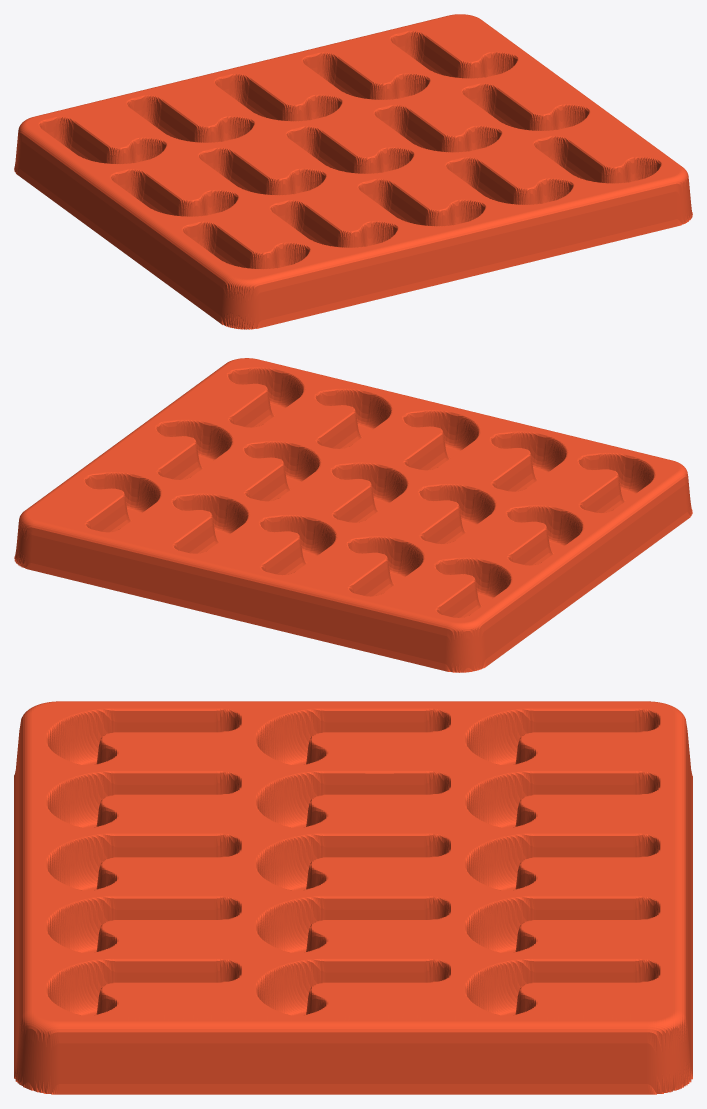
File: mold.glb
3 views of the same model, one above another, from view 1: azimuth 30°, elevation 25°; view 2: azimuth 150°, elevation 25°; view 3: azimuth 270°, elevation 25° (orthographic). The views are drawn at different scales.
Visible parts, largest first — view 1: geometry_0; view 2: geometry_0; view 3: geometry_0.
Boxes of the visible parts, x1=… form: geometry_0: x1=14, y1=14, x2=692, y2=329; geometry_0: x1=14, y1=358, x2=692, y2=672; geometry_0: x1=14, y1=701, x2=692, y2=1094.
Bounding box in the file's own units: 0.1586 × 0.0145 × 0.1361.
